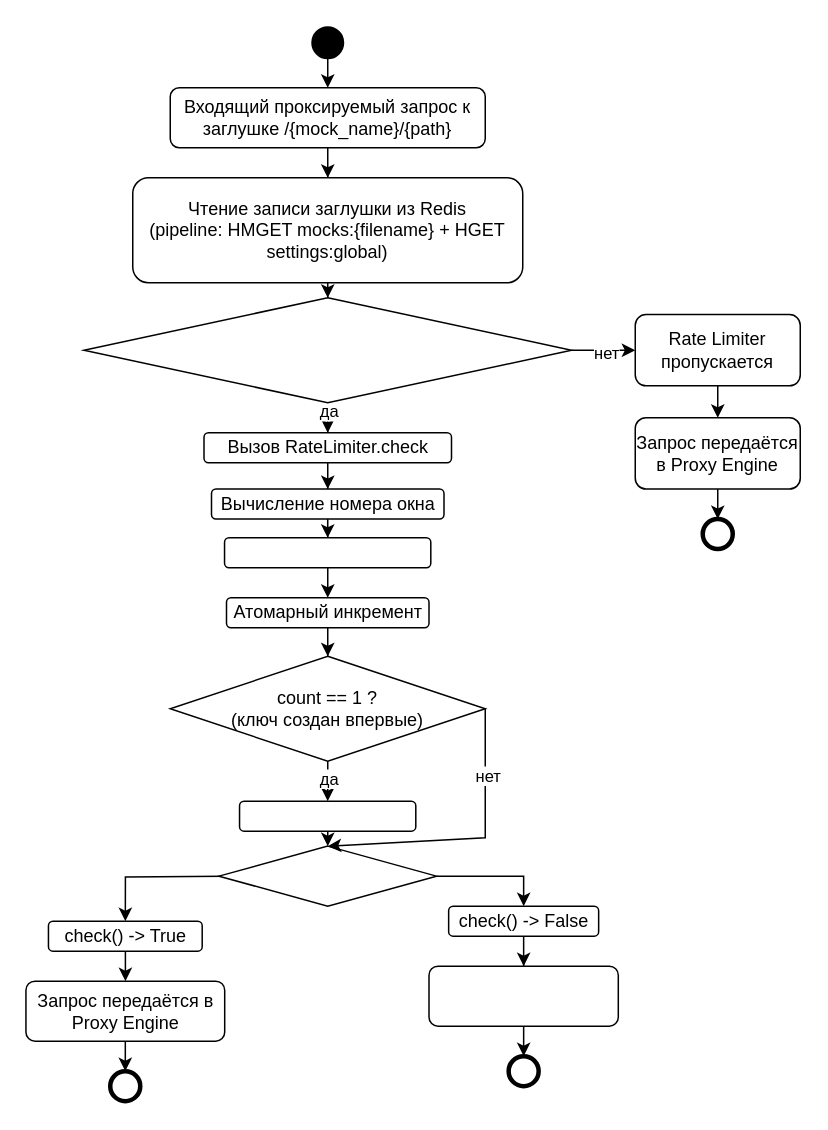
The diagram is 828 pixels wide and 1130 high, and some of its shapes have lost their labels. Each missing label, with the centre of its shape:
"count <= limit ?" belongs at (x=327, y=875).
"rate_limit_enabled == true И rate_limit > 0?" belongs at (x=327, y=349).
"Ответ HTTP 429 Too Many Requests" belongs at (x=523, y=995).
"Установка TTL" belongs at (x=327, y=815).
"Формирование ключа" belongs at (x=327, y=552).
